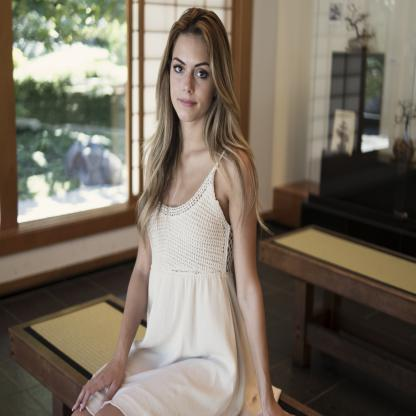Eye: (193, 64, 210, 82), (172, 59, 186, 76)
Mouth: (174, 95, 200, 110)
Nose: (182, 66, 194, 95)
